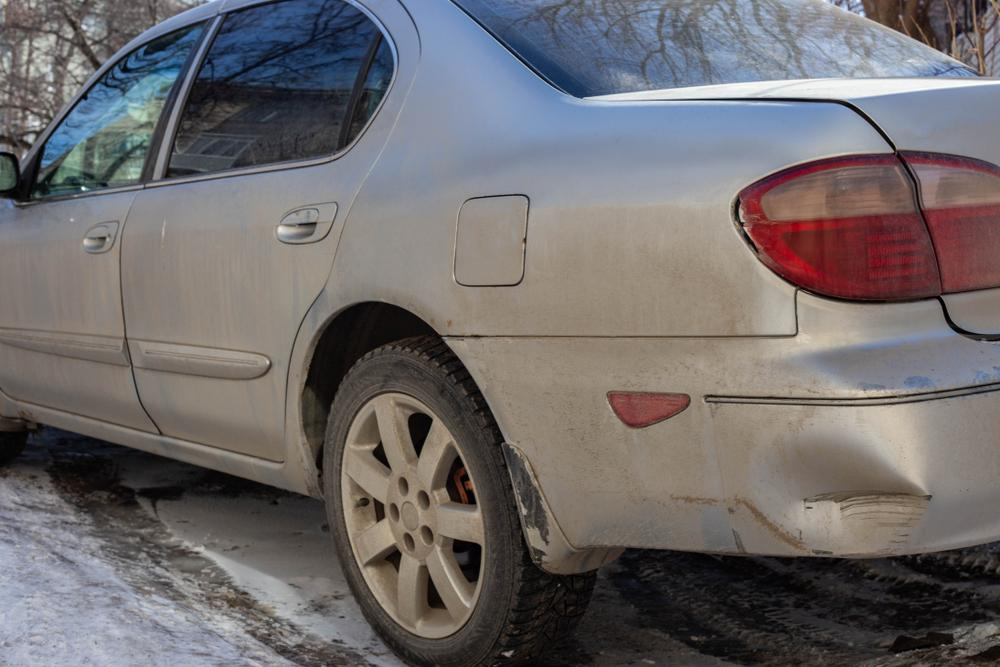dent: (749, 440, 929, 554)
lamp broken: (733, 154, 945, 306)
scratch: (505, 445, 558, 570)
